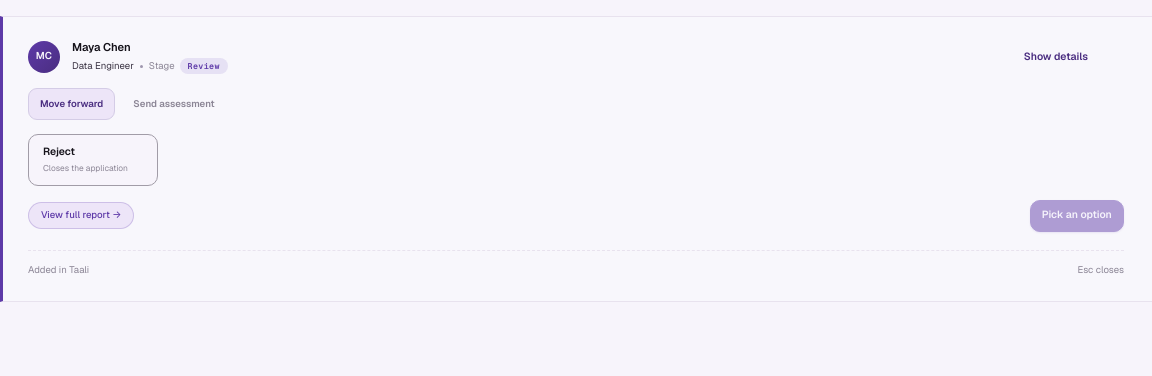
CandidateTriageDrawer shared motion › keeps a related-role reject inside the current role
Click the button "Reject Closes the application": {"x": 93, "y": 160} [28,134,158,186]
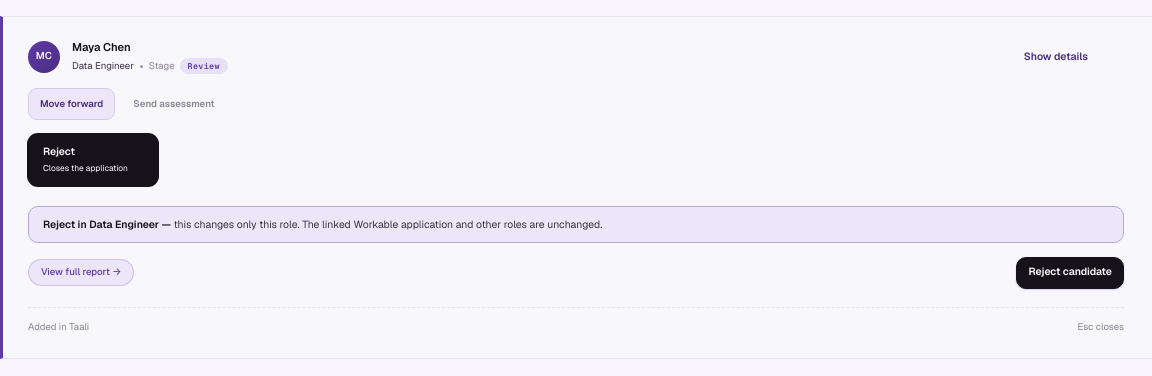
Check: the message shows "Reject in Data Engineer", box [28,206,1124,243]
